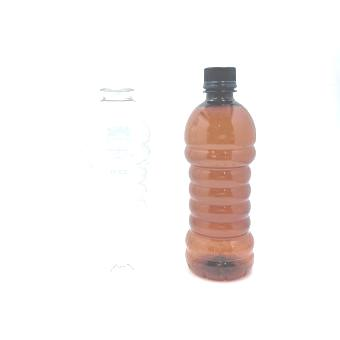bottle: (82, 64, 153, 282), (186, 63, 254, 278)
